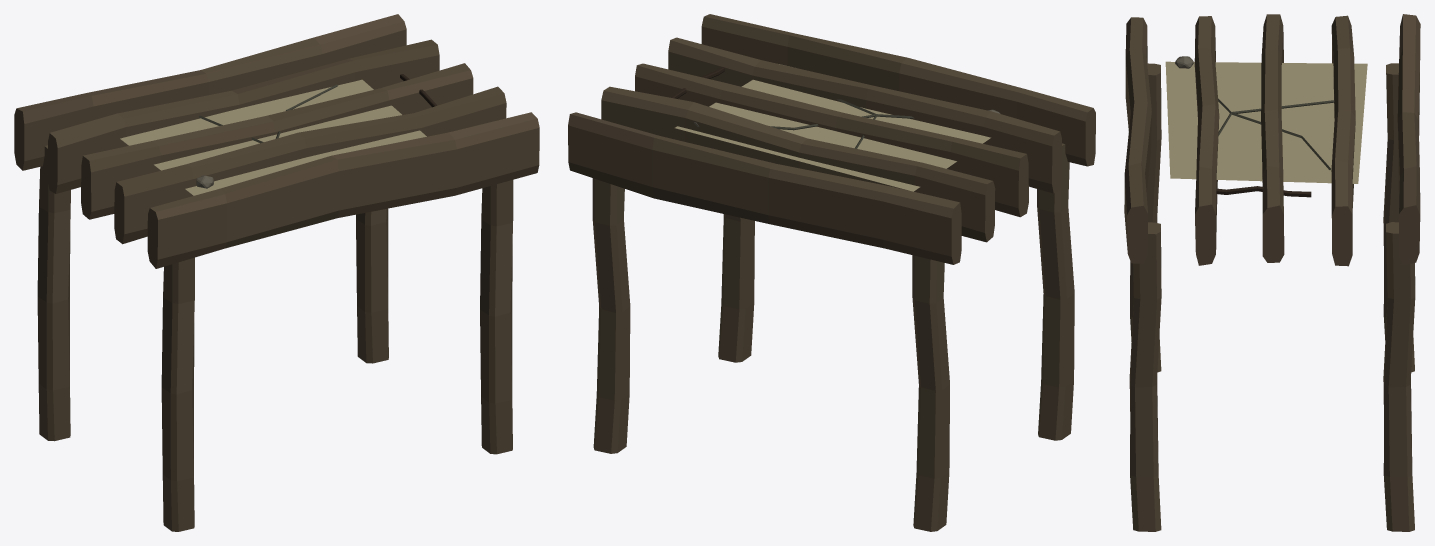
The model's file is map-table.glb.
3 views of the same model, side by side, from view 1: azimuth 30°, elevation 25°; view 2: azimuth 150°, elevation 25°; view 3: azimuth 270°, elevation 25° (orthographic). The views are drawn at different scales.
Visible parts, largest first — view 1: Wood, Cloth; view 2: Wood, Cloth; view 3: Wood, Cloth.
Part boxes in pixels (bbox=[...]): Wood: bbox=[14, 14, 539, 531]; Cloth: bbox=[120, 79, 426, 195]; Wood: bbox=[568, 14, 1095, 531]; Cloth: bbox=[675, 64, 990, 191]; Wood: bbox=[1124, 14, 1420, 531]; Cloth: bbox=[1165, 61, 1367, 183].
Size of the model in its own units: 0.96 by 0.7998 by 0.6301.
